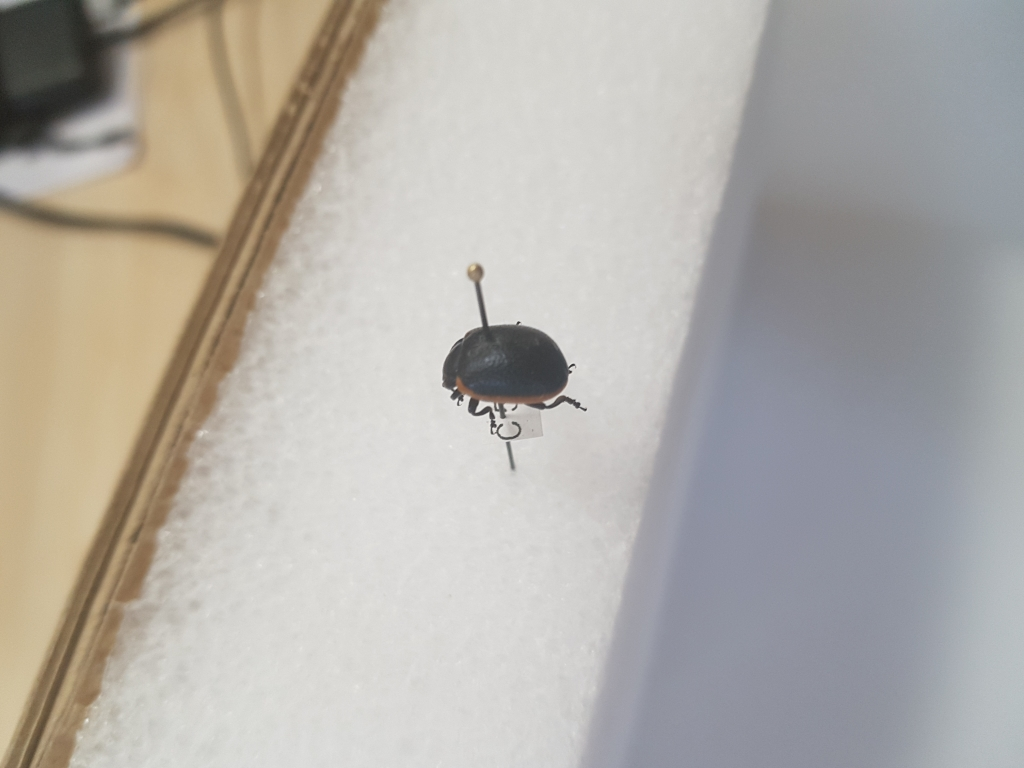Chrysolina_gypsophila: (438, 319, 590, 433)
